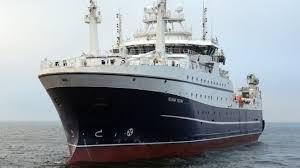Ship: (40, 1, 266, 165)
